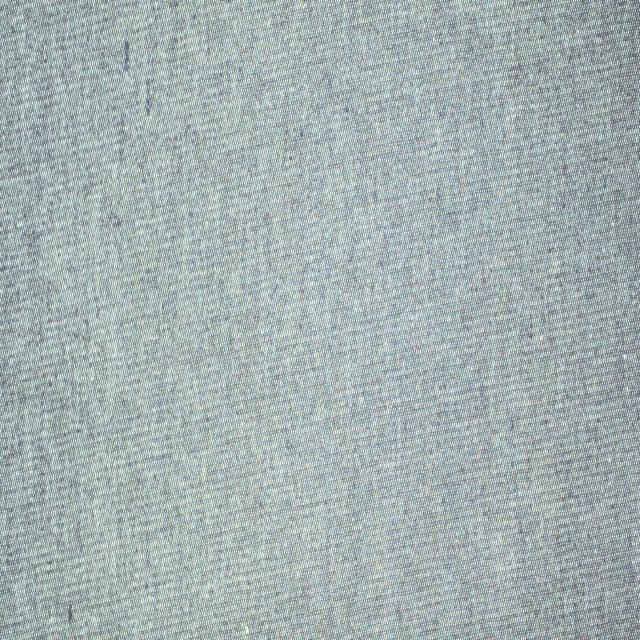stain: (123, 40, 130, 75)
